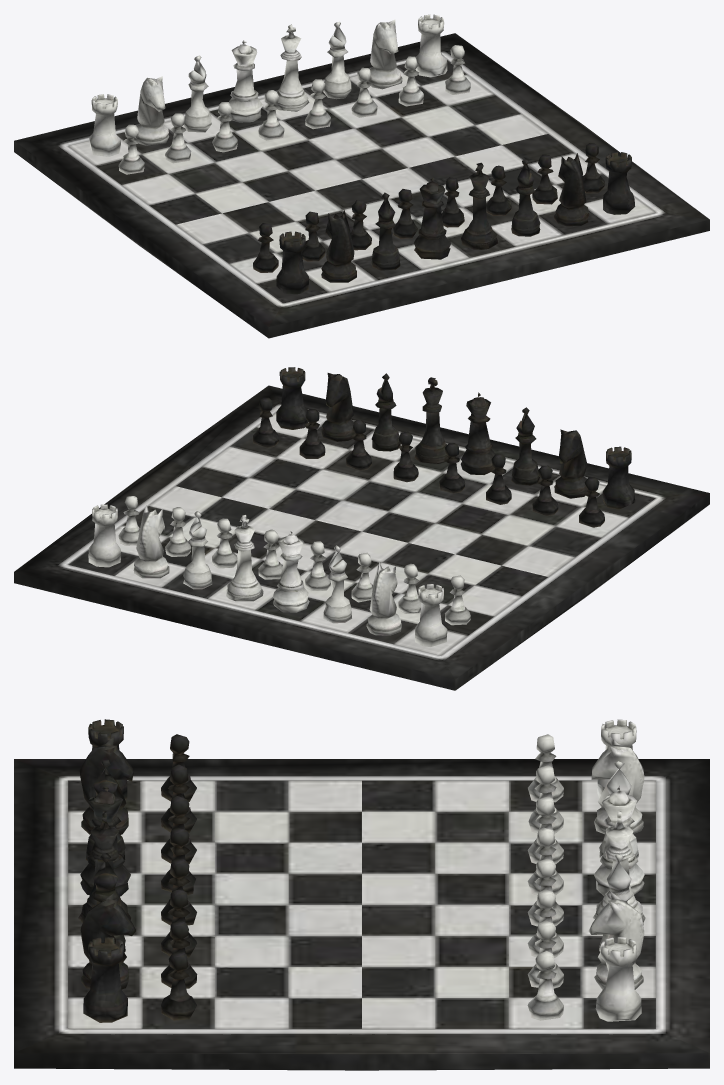
Rendered from chess-set.lite.be188fbb.glb.
3 renders of one model, top to bottom at view 1: azimuth 30°, elevation 25°; view 2: azimuth 150°, elevation 25°; view 3: azimuth 270°, elevation 25°, orthographic. The views are drawn at different scales.
Visible parts, largest first — view 1: model; view 2: model; view 3: model.
Boxes of the visible parts, x1,y1,x2,y2 form: model: (14, 14, 709, 338); model: (14, 367, 709, 690); model: (14, 719, 709, 1070).
Size of the model in its own units: 0.5522 by 0.1103 by 0.5482.
3 materials, 3 textured.
